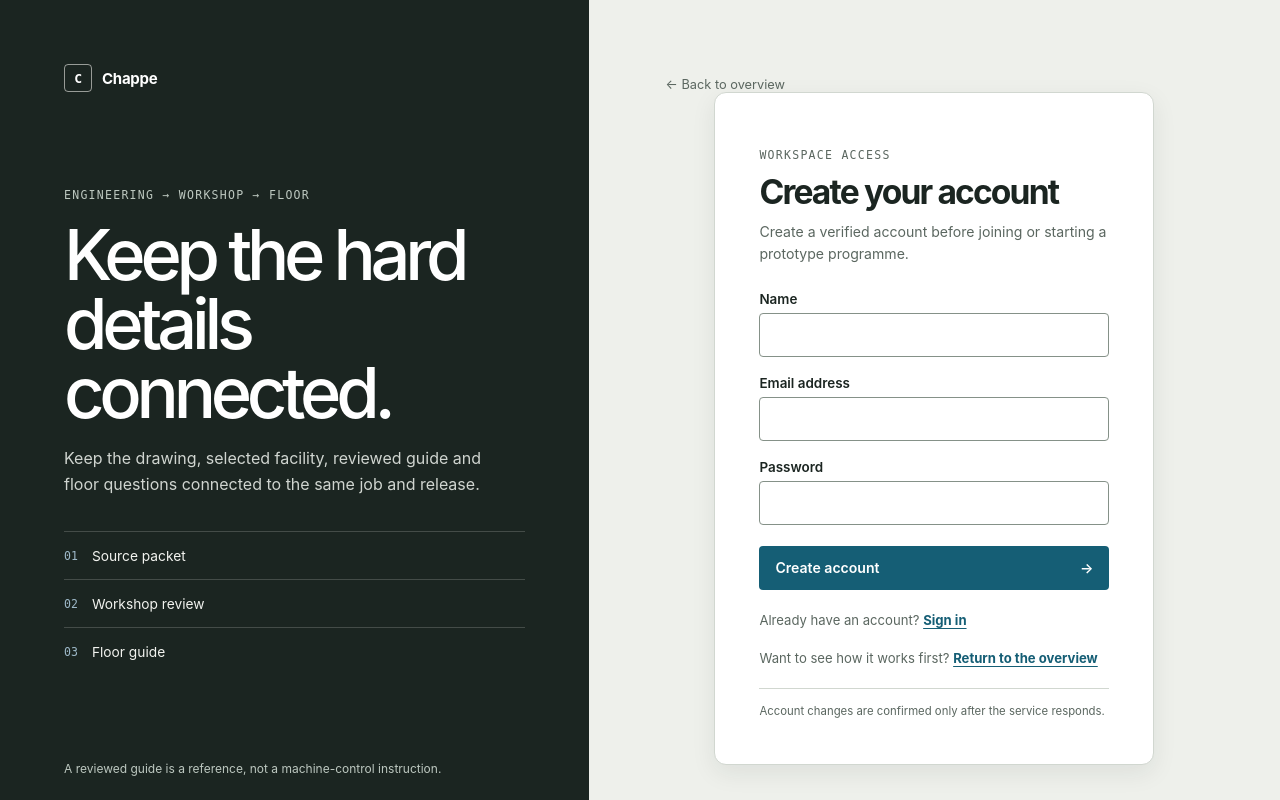
Test: AuthForm › shows the API's verification state after sign-up without claiming a verified session
This screenshot has width=1280, height=800.
Type "Rae Designer" into the field labelled "Name" at x=934, y=335, box [759,313,1109,357]
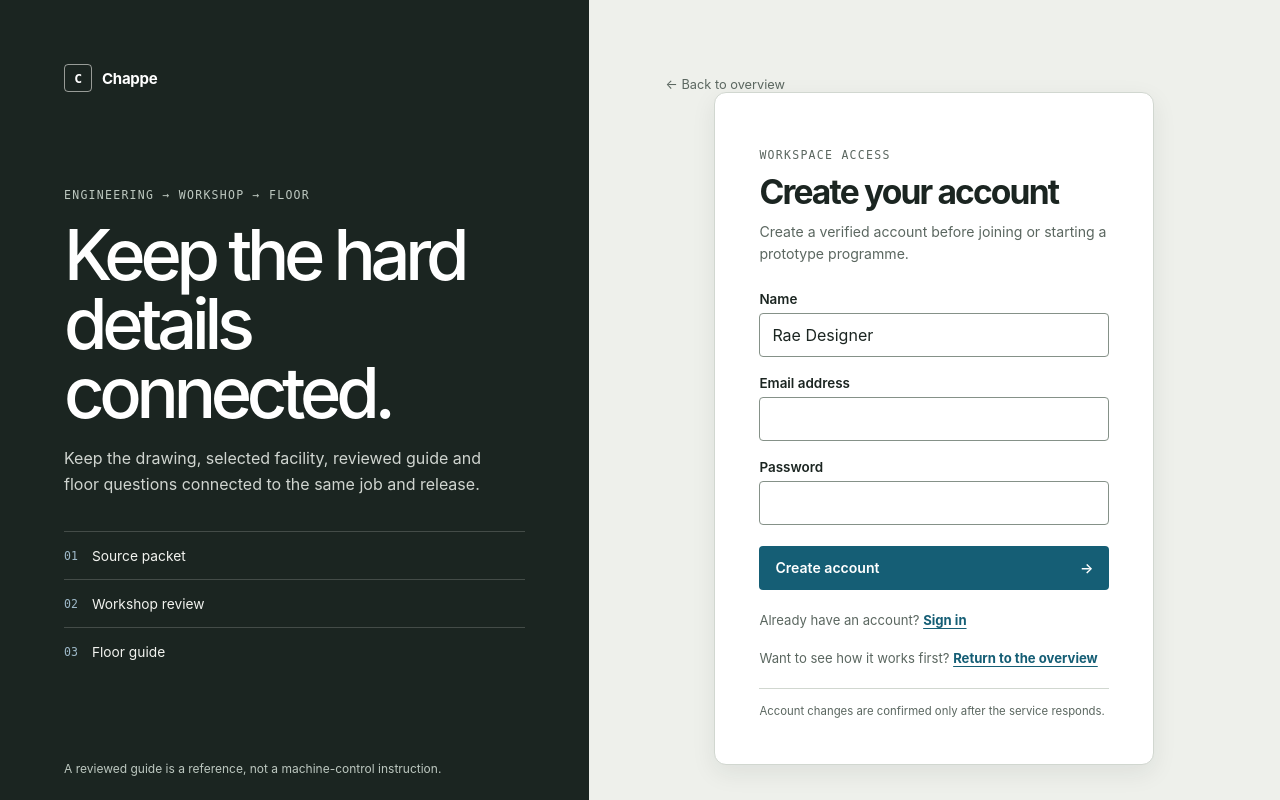
Type "rae@example.com" into the field labelled "Email address" at x=934, y=419, box [759,397,1109,441]
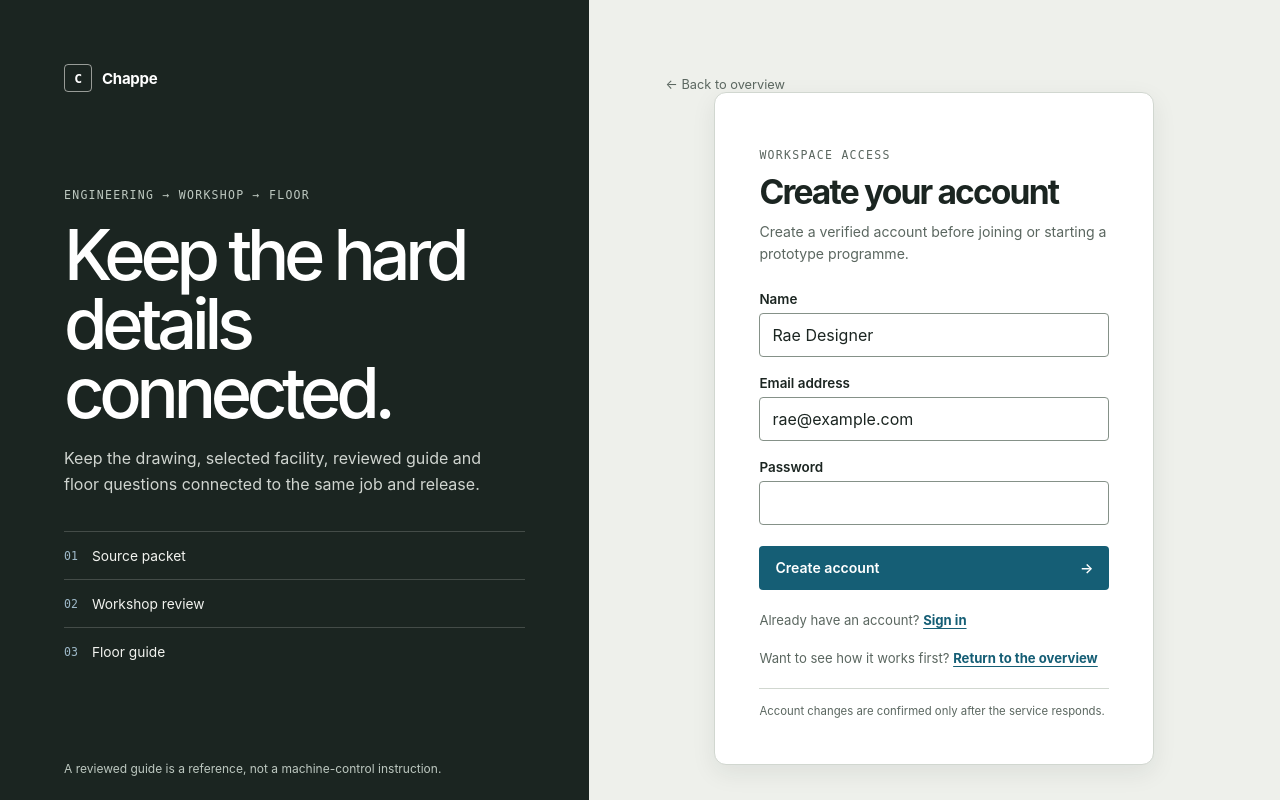
Type "long-enough-password" into the password field labelled "Password" at x=934, y=503, box [759,481,1109,525]
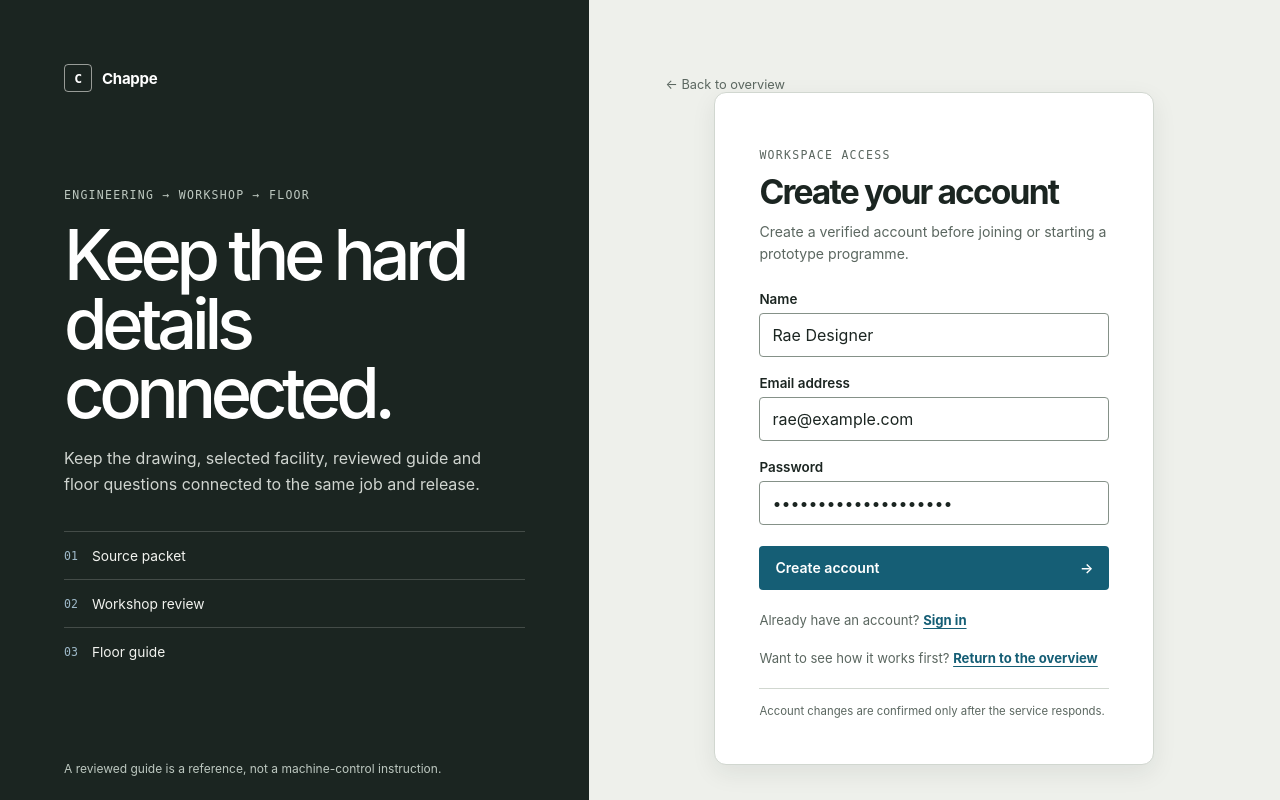
Submit the form "Name Email address Password Create account →", box [759,291,1109,590]
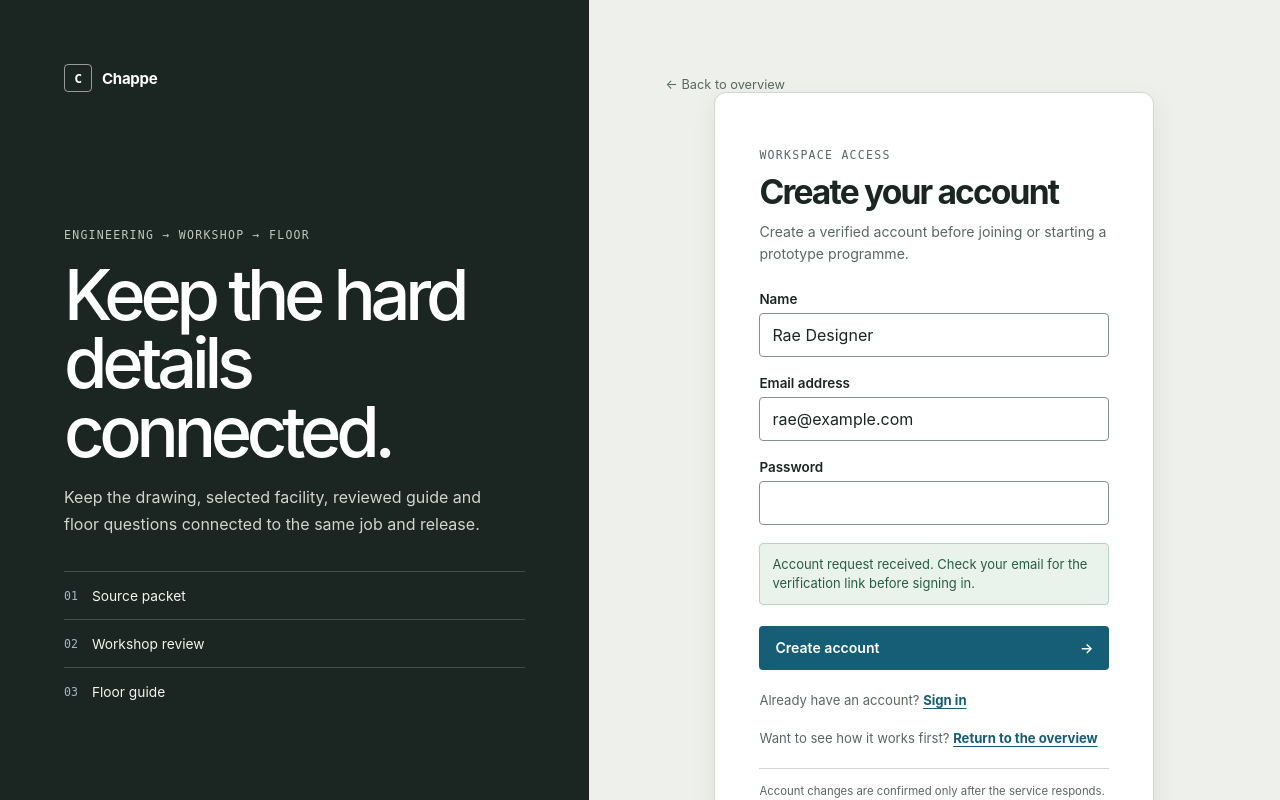
Expected: the message shows "Check your email for the verification link", [772,556,1087,591]
